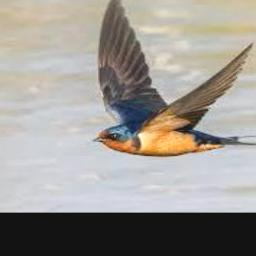Swallow: (91, 0, 256, 156)
